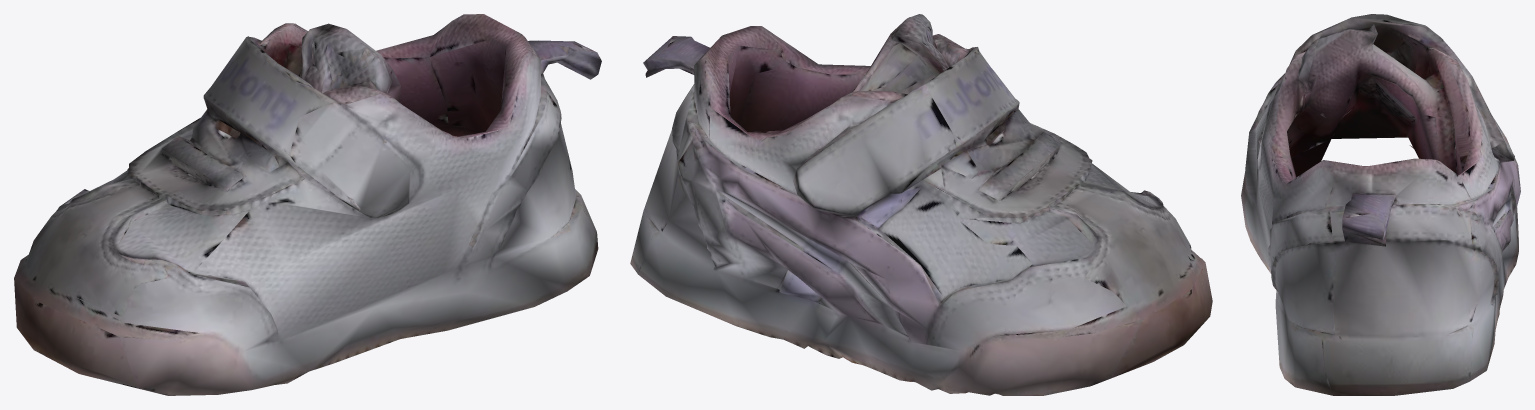
File: kids_shoe.glb
3 views of the same model, side by side, from view 1: azimuth 30°, elevation 25°; view 2: azimuth 150°, elevation 25°; view 3: azimuth 270°, elevation 25° (orthographic). The views are drawn at different scales.
Parts seen in each view (by area): view 1: di; view 2: di; view 3: di.
Part boxes in pixels (bbox=[...]): di: bbox=[14, 14, 601, 395]; di: bbox=[630, 14, 1212, 395]; di: bbox=[1241, 14, 1520, 395].
Size of the model in its own units: 0.1882 by 0.0951 by 0.0876.
Materials: 1 (1 with a texture image).
